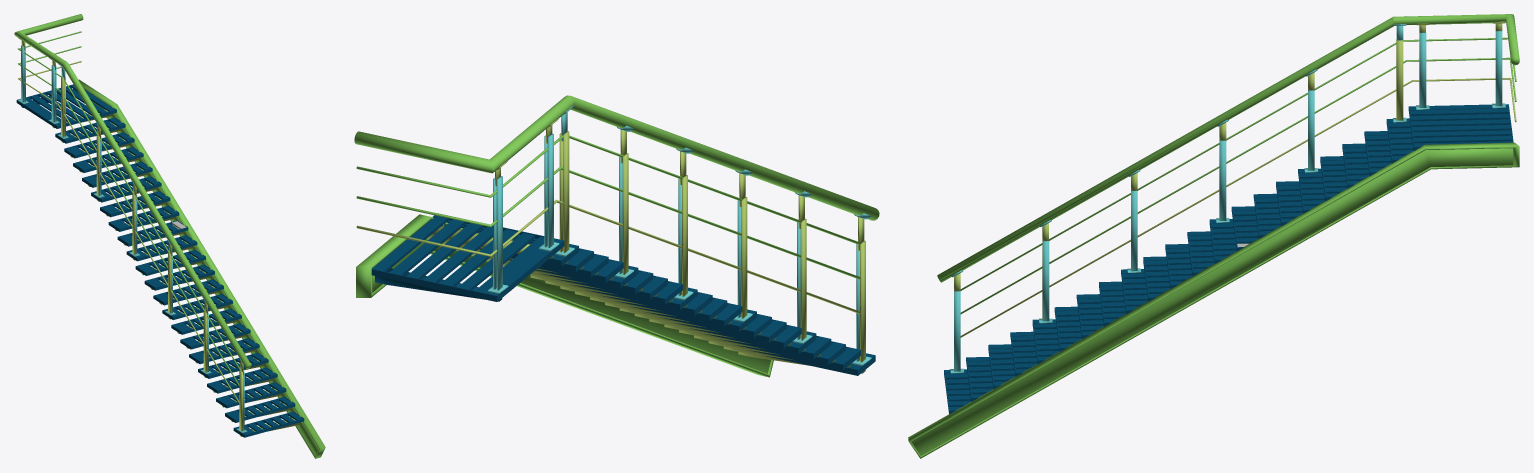
The model's file is 3DStairs_Meshlab.obj.
3 views of the same model, side by side, from view 1: azimuth 30°, elevation 25°; view 2: azimuth 150°, elevation 25°; view 3: azimuth 270°, elevation 25° (orthographic). The views are drawn at different scales.
Bounding box in the file's own units: 6.09 × 19.05 × 27.17.
